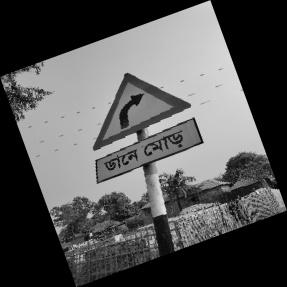Right-turn: (91, 72, 201, 186)
